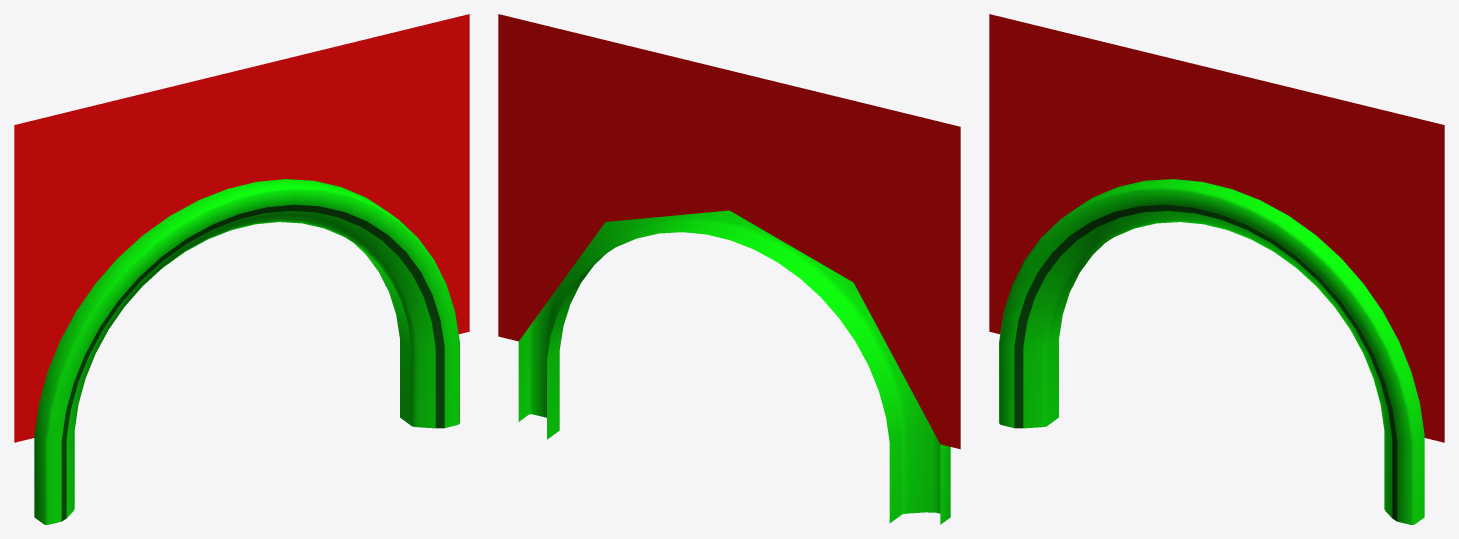
Rendered from SM_BaseWallArchLarge6m.fbx.
3 renders of one model, left to right at view 1: azimuth 30°, elevation 25°; view 2: azimuth 150°, elevation 25°; view 3: azimuth 330°, elevation 25°, orthographic.
Parts seen in each view (by area): view 1: SM_BaseWallArchLarge6m; view 2: SM_BaseWallArchLarge6m; view 3: SM_BaseWallArchLarge6m.
Boxes of the visible parts, left/top/right/bottom form: SM_BaseWallArchLarge6m: left=14, top=14, right=469, bottom=524; SM_BaseWallArchLarge6m: left=498, top=14, right=960, bottom=524; SM_BaseWallArchLarge6m: left=989, top=14, right=1444, bottom=524.
Size of the model in its own units: 600 by 500 by 50.73.
